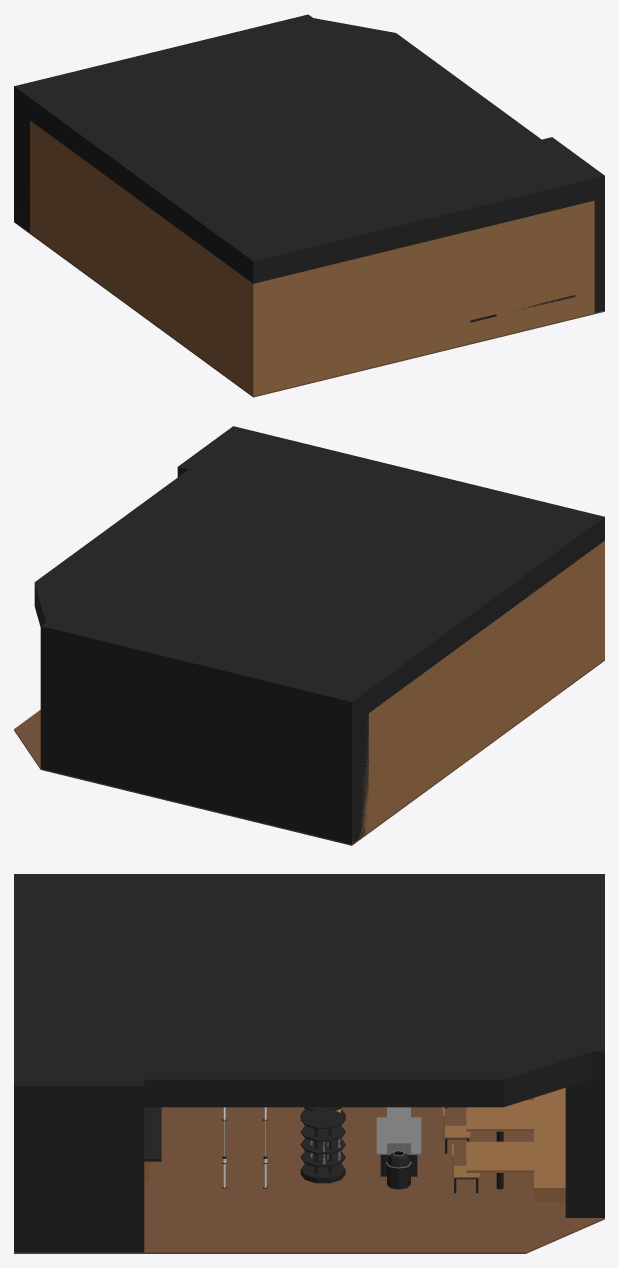
The model's file is Cafe.fbx.
The picture shows the model from 3 angles, top to bottom: view 1: azimuth 30°, elevation 25°; view 2: azimuth 150°, elevation 25°; view 3: azimuth 270°, elevation 25°; orthographic projection. The views are drawn at different scales.
Parts seen in each view (by area): view 1: Cube.043, Cube.009, Plane.017, Cube.008, Cube.036, Cube; view 2: Cube.043, Cube.008, Plane.017, Cube, Cube.036; view 3: Cube.043, Cube, Cube.036, Cube.008, Cube.075, Cube.2996, Cube.080, Cube.2991, Cube.079, Cube.045, Cube.2993.
Part boxes in pixels (x1,y1,x2,y2): Cube.043: (19,18,594,283); Cube.009: (253,200,594,396); Plane.017: (30,120,253,395); Cube.008: (14,14,312,232); Cube.036: (542,137,604,312); Cube: (14,221,604,397); Cube.043: (34,429,604,721); Cube.008: (40,622,368,844); Plane.017: (352,540,604,842); Cube: (14,659,604,845); Cube.036: (177,426,243,476); Cube.043: (14,874,592,1107); Cube: (14,1098,604,1253); Cube.036: (14,1079,144,1252); Cube.008: (565,874,604,1217); Cube.075: (534,1088,565,1202); Cube.2996: (300,1109,345,1183); Cube.080: (466,1141,533,1172); Cube.2991: (376,1107,421,1154); Cube.079: (466,1100,533,1131); Cube.045: (144,1107,161,1161); Cube.2993: (387,1151,410,1189).
Bounding box in the file's own units: 1747 × 1482 × 548.
